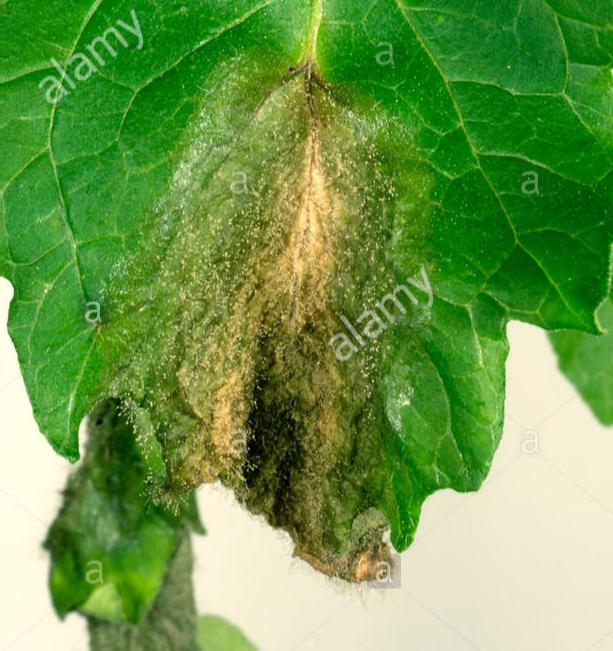Tomato mold leaf: (0, 0, 613, 625)
